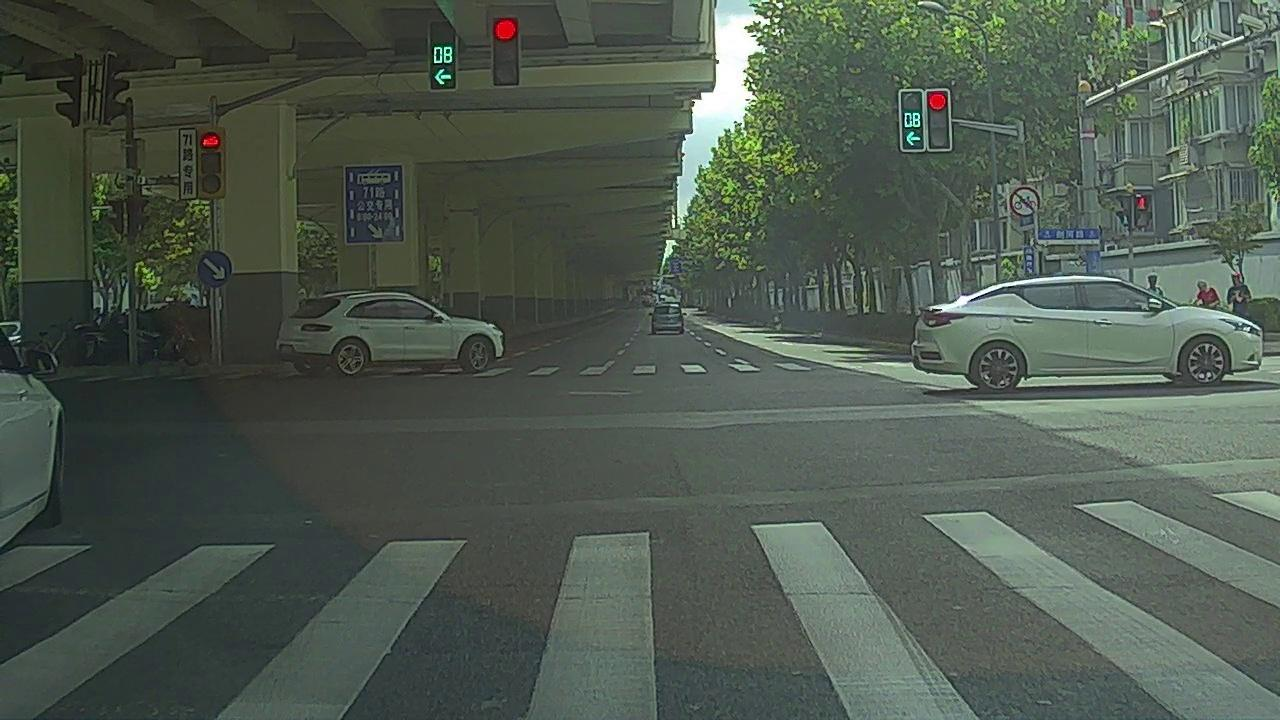traffic_light: (430, 22, 456, 87), (923, 89, 951, 148), (495, 19, 519, 84), (900, 91, 925, 150)
